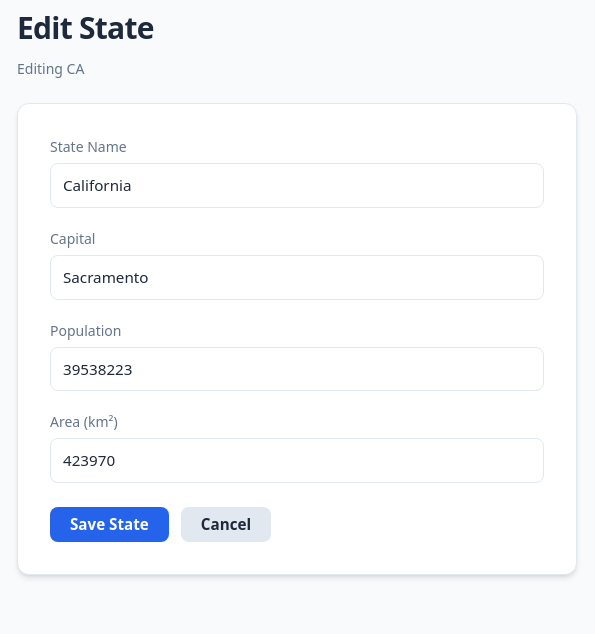
Test: submits updated state data and redirects
The width and height of the screenshot is (595, 634).
Step 1. Replace the text in the field labelled "Capital" with "Los Angeles" → (297, 277), box [50,255,544,300]
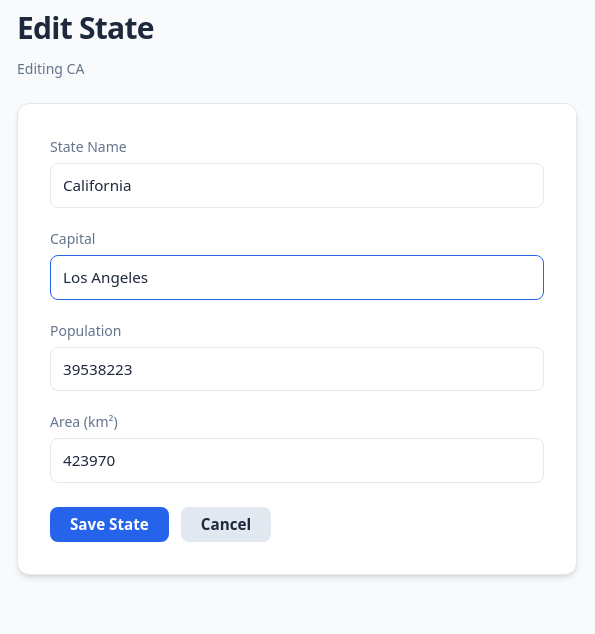
Step 2. Click the button "Save State" → (109, 525), box [50,507,169,542]
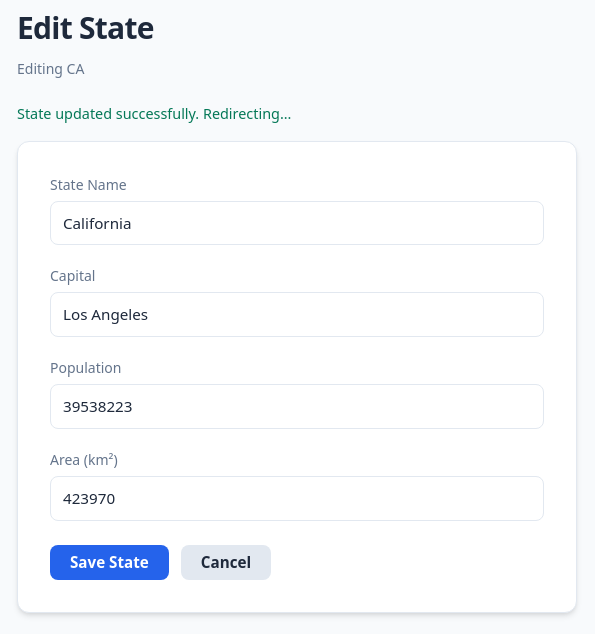
Check: the message shows "State updated successfully", box [17,104,292,123]
